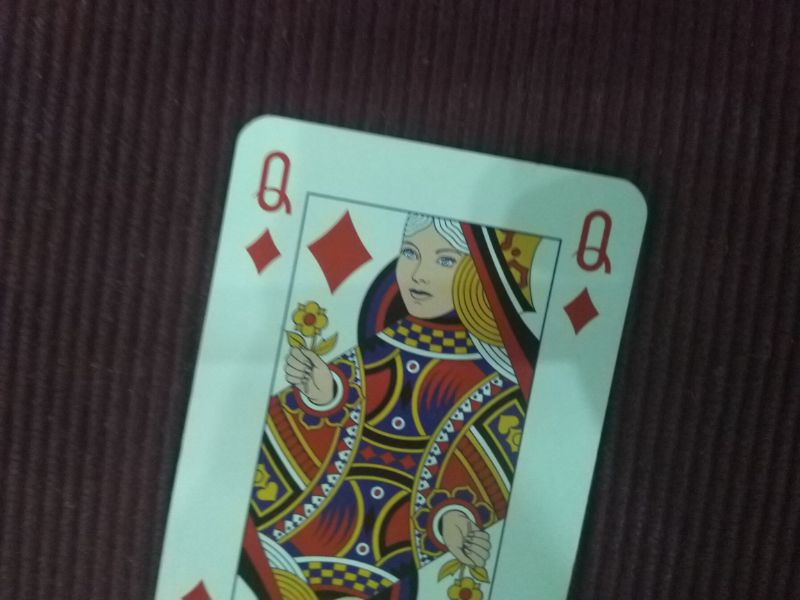Qd: (555, 203, 615, 339), (237, 144, 293, 281)
